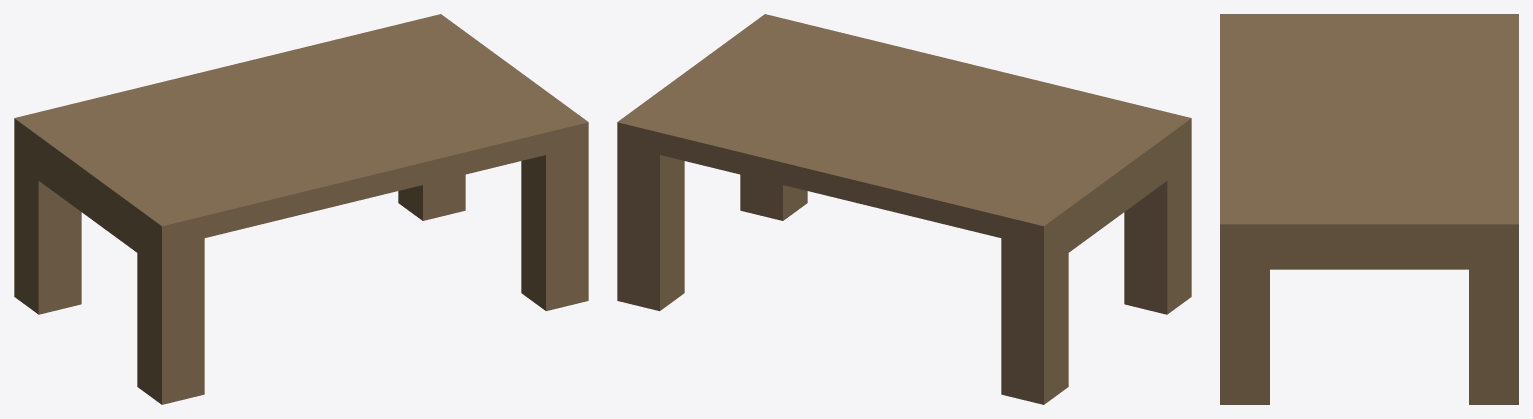
File: dining_table2.obj
3 renders of one model, left to right at view 1: azimuth 30°, elevation 25°; view 2: azimuth 150°, elevation 25°; view 3: azimuth 270°, elevation 25°, orthographic.
Parts seen in each view (by area): view 1: dining_table2; view 2: dining_table2; view 3: dining_table2.
Boxes of the visible parts, bbox=[...] form: dining_table2: bbox=[14, 14, 588, 404]; dining_table2: bbox=[617, 14, 1191, 404]; dining_table2: bbox=[1220, 14, 1518, 404].
Bounding box in the file's own units: 20 × 8 × 12.
